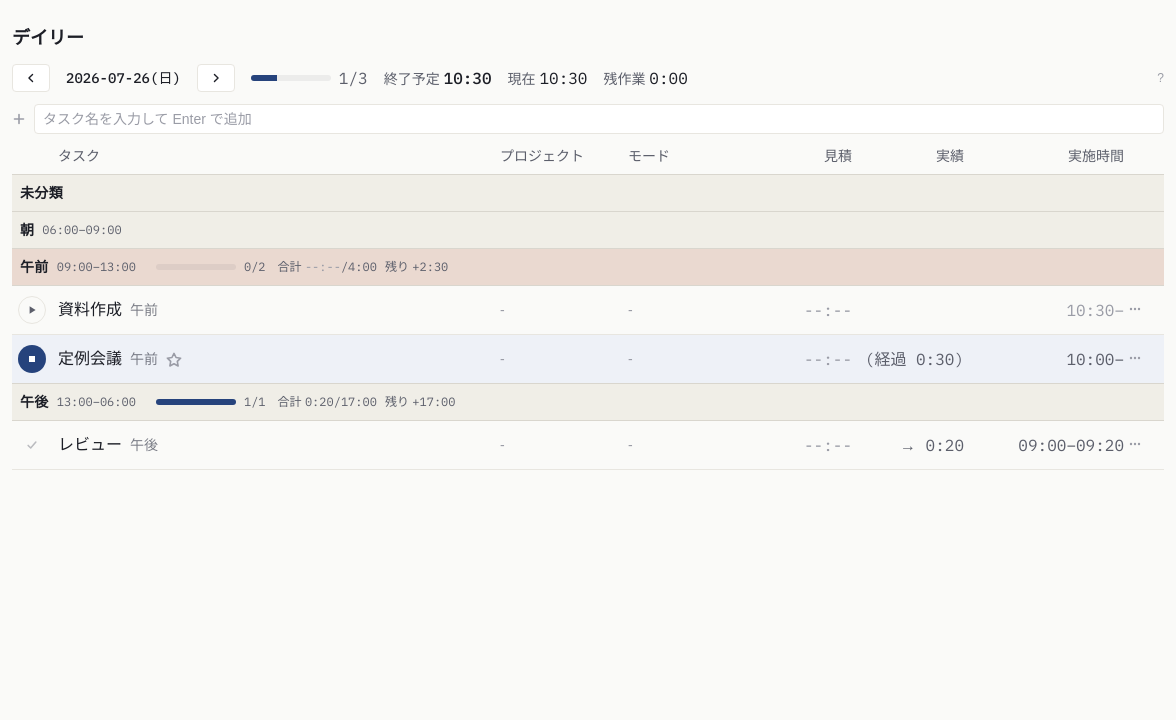
DailyBoard の楽観的更新（N-01 / 00_共通 §4: 即UIに反映 → 失敗時はトースト＋ロールバック） › サーバが失敗を返したら表示中のデータを取り直す（00_共通 §4.1 / FB-70）
Click the button named "開始": (32, 310) [18,296,46,324]
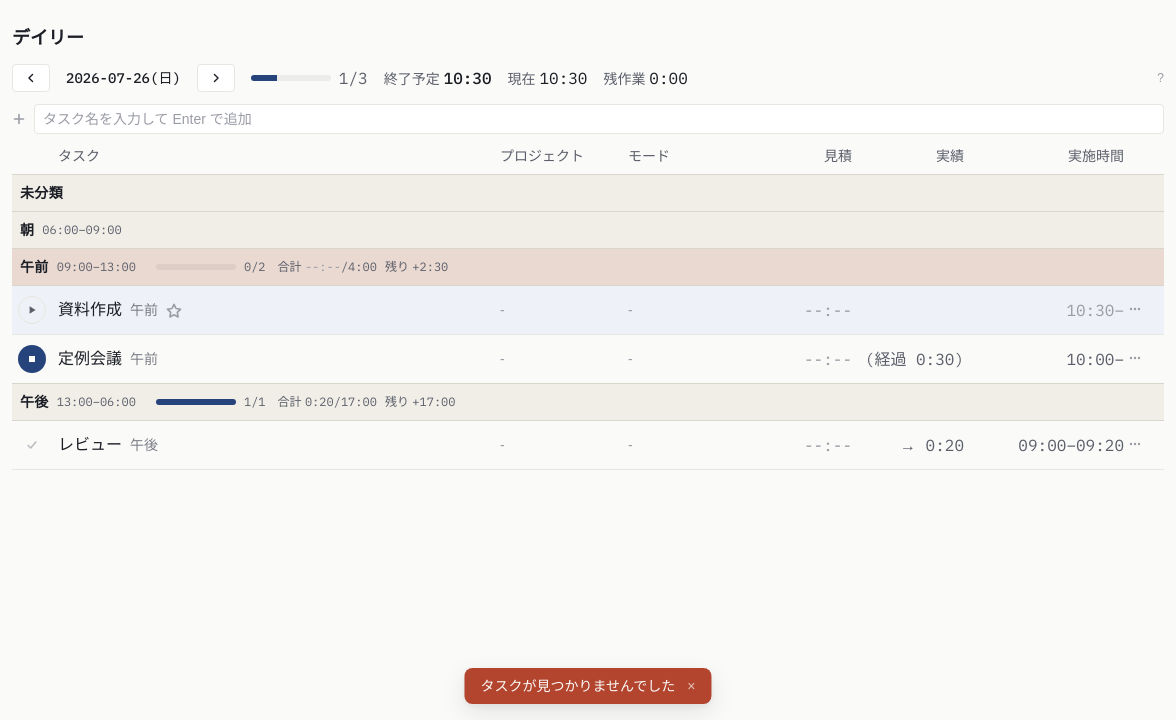
Expected: the text "タスクが見つかりませんでした" is shown, [480,676,675,696]
